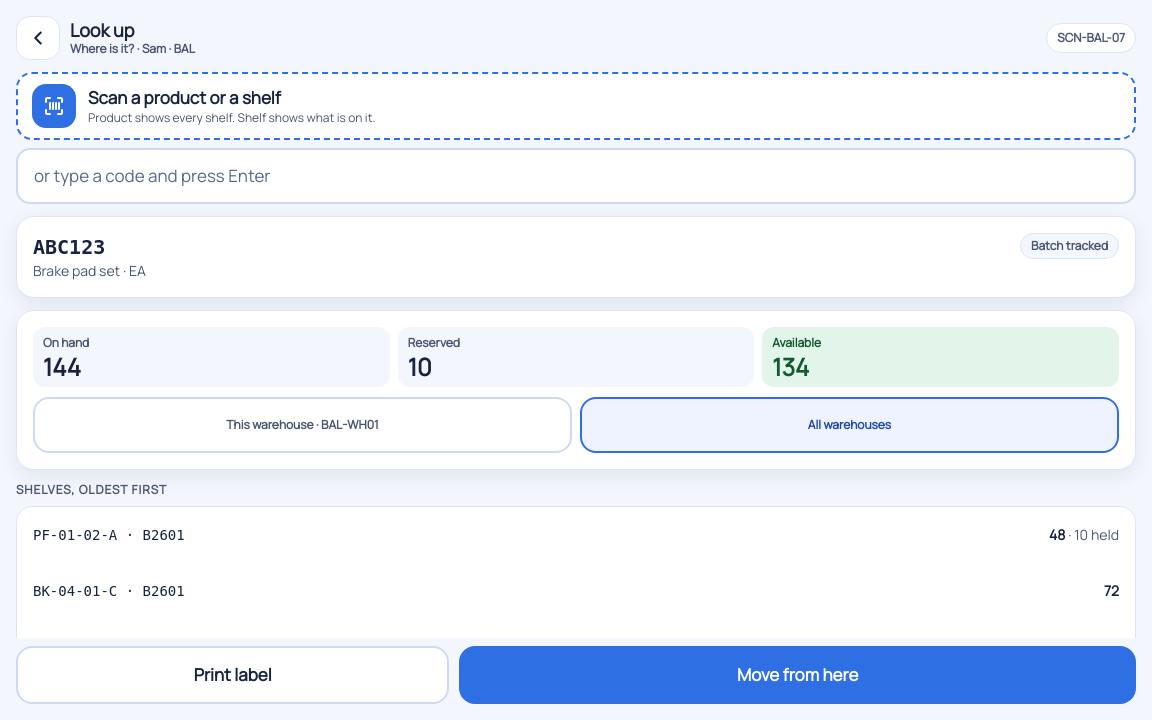
Lookup › prints a product label for the sku on screen, with no batch when the stock is spread about
This screenshot has width=1152, height=720.
Expected: the text "Brake pad set · EA" is shown, [33, 261, 146, 281]
Step 1. Click the button "Print label" → (233, 675), box [16, 646, 449, 704]
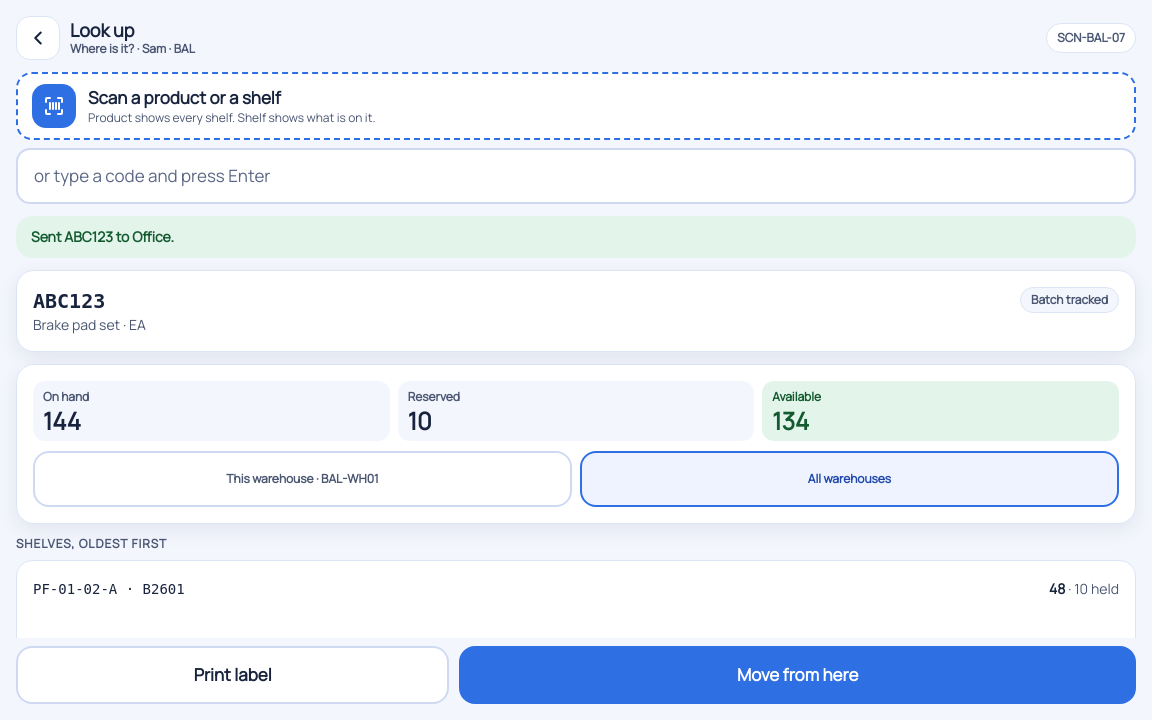
Now the text "Sent ABC123 to Office." is shown, box [16, 216, 1136, 258]
